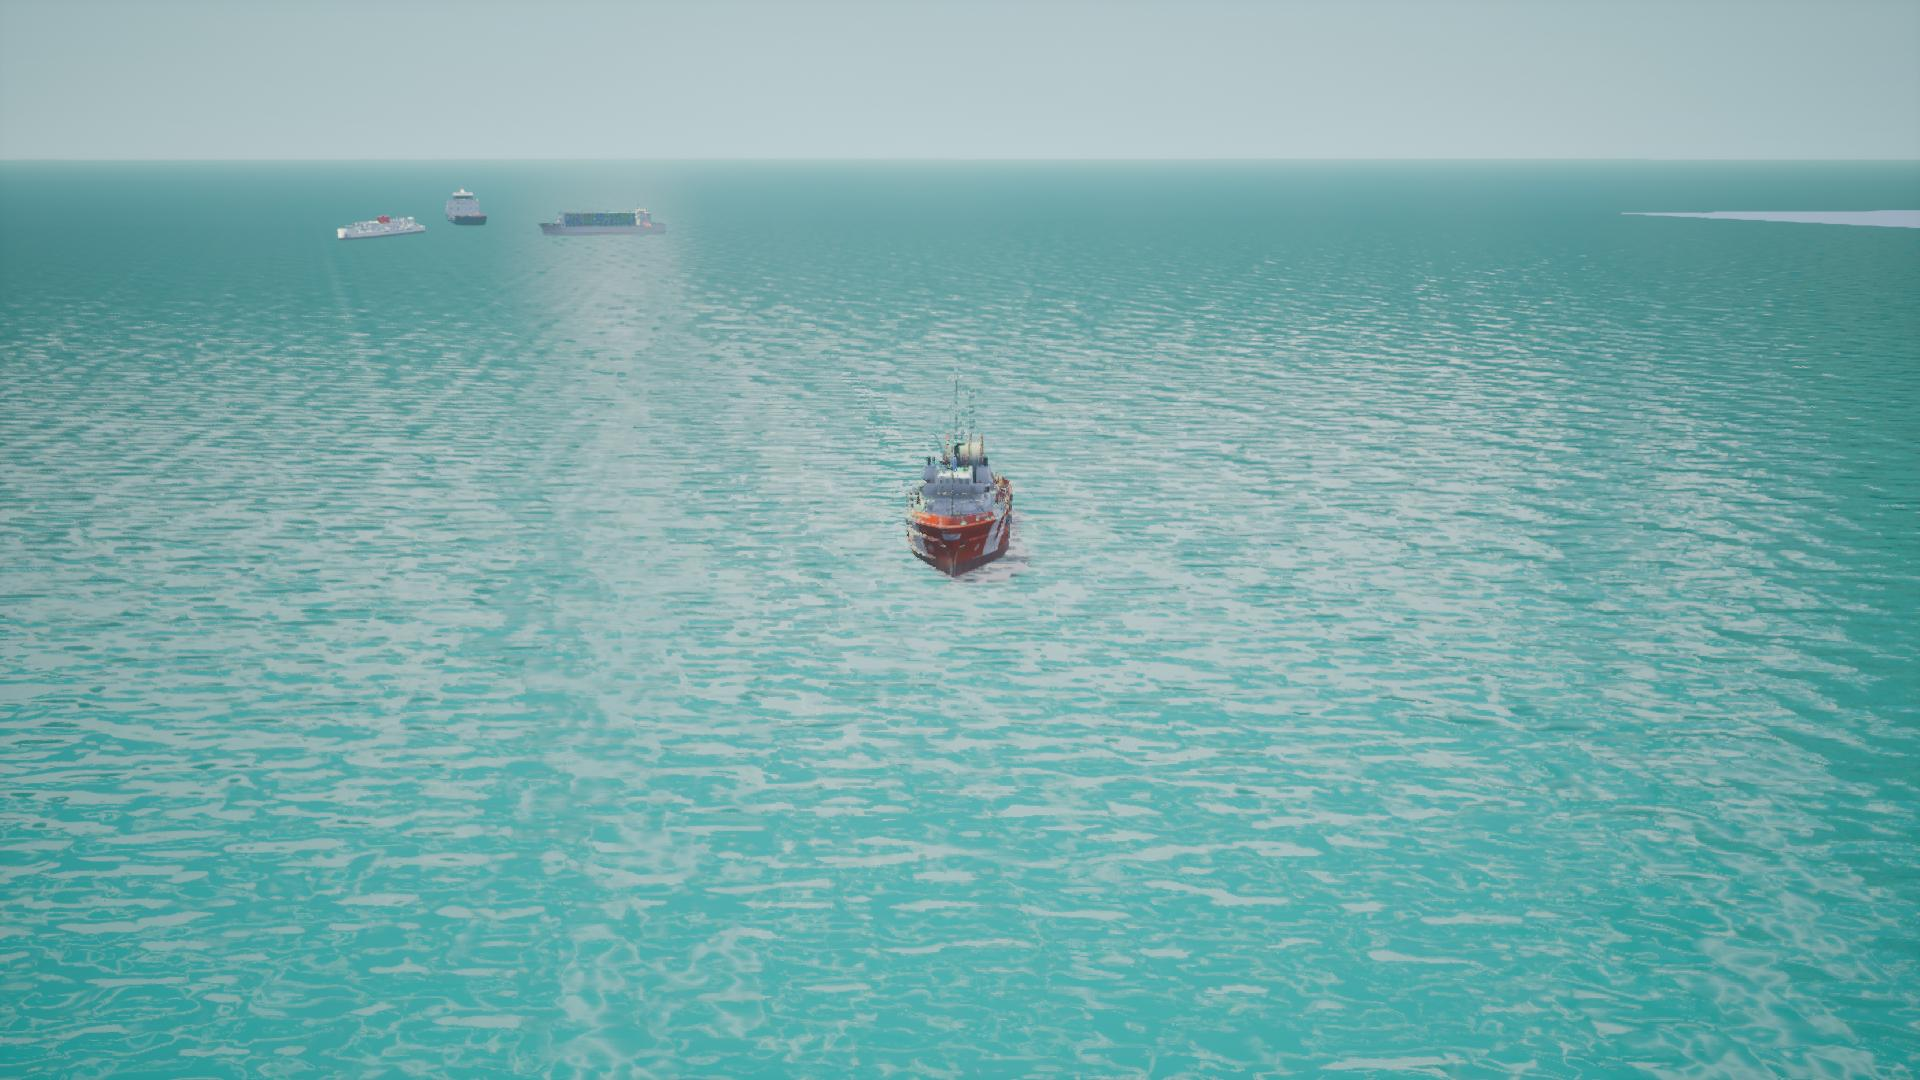Tug Boat: (909, 439, 1010, 579)
